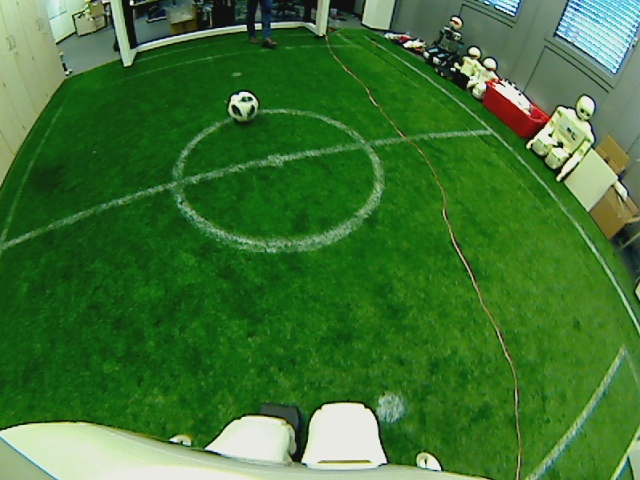ball: (225, 88, 259, 124)
